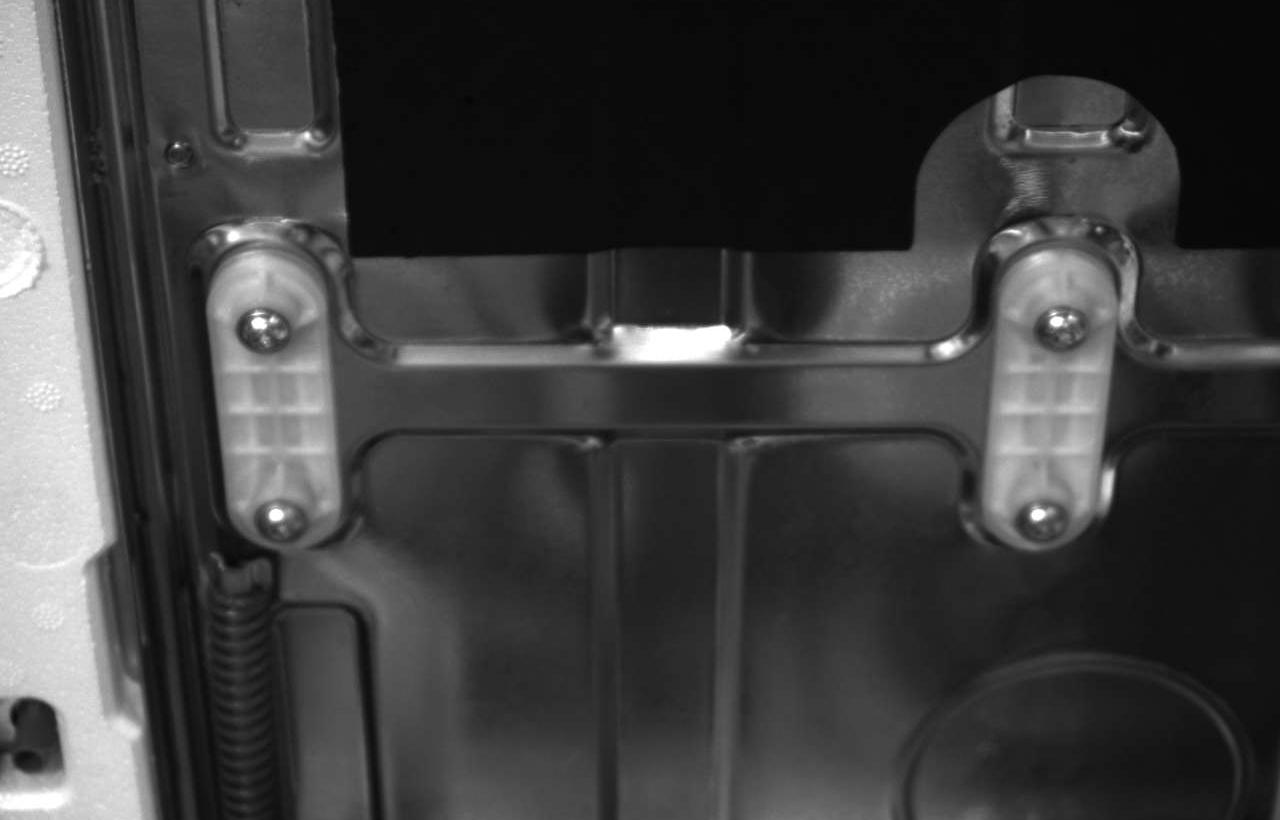vida-ok: (229, 297, 316, 375), (1024, 297, 1112, 370), (235, 484, 316, 548), (1003, 495, 1079, 553)
